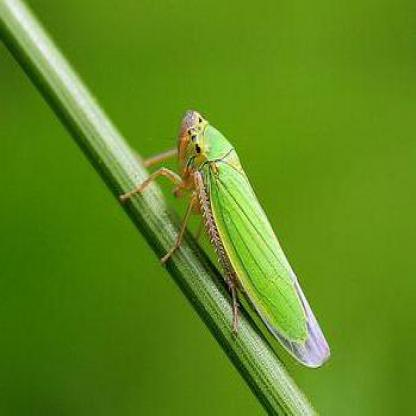Green-Leafhopper: (123, 110, 332, 372)
